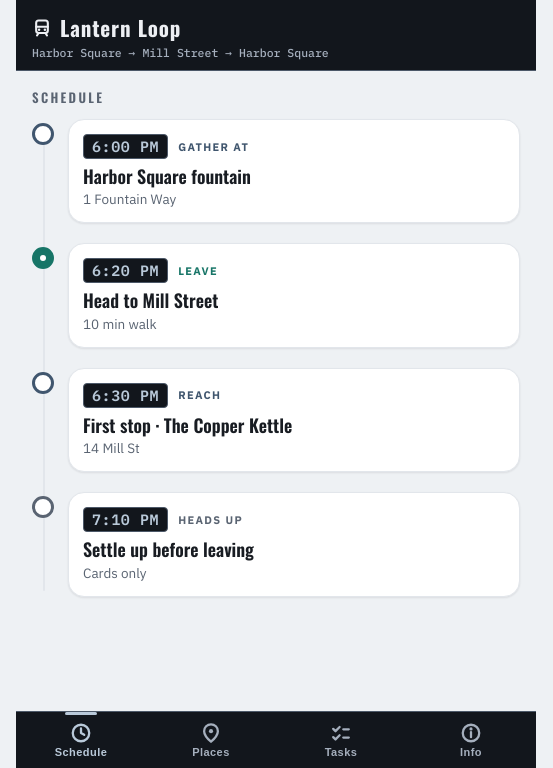
Test: Shell navigation › tapping a tab switches the view and marks it active
Expected: the element with test id "view-schedule" is shown, [32,119,520,597]
Click the button "Places".
click(211, 740)  # box [146,712,276,767]
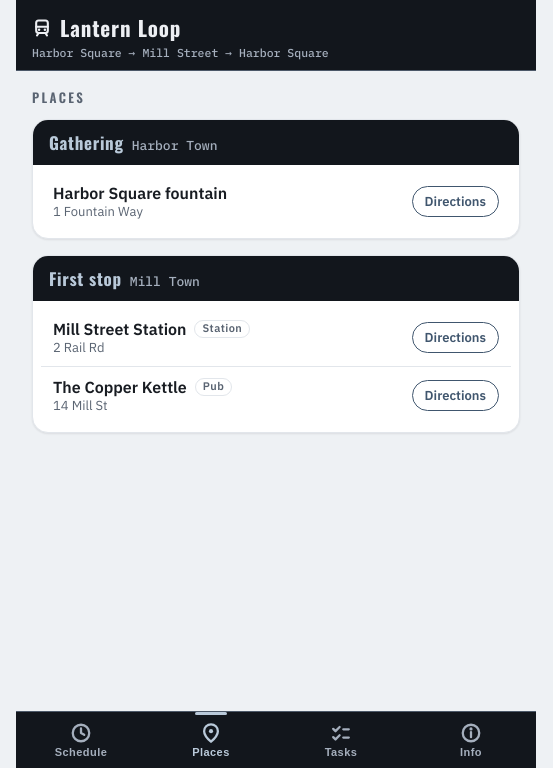
Expected: the element with test id "view-places" is shown, [32,119,520,433]
Expected: the element with test id "view-schedule" is gone
